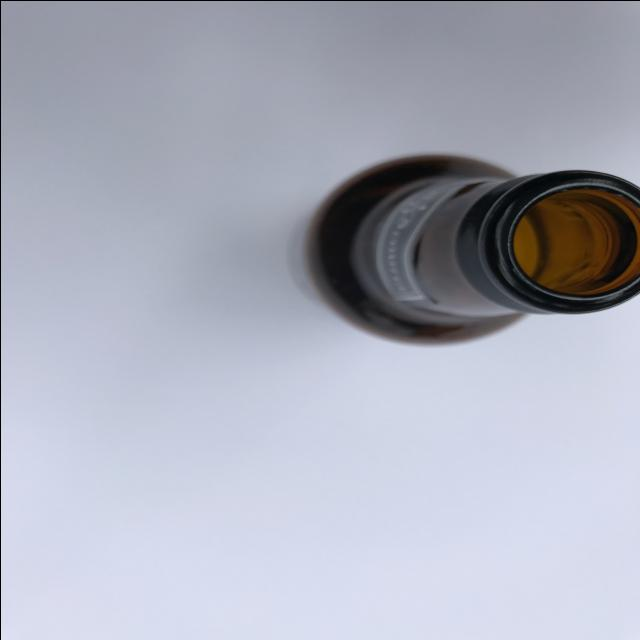glass: (239, 123, 640, 376)
